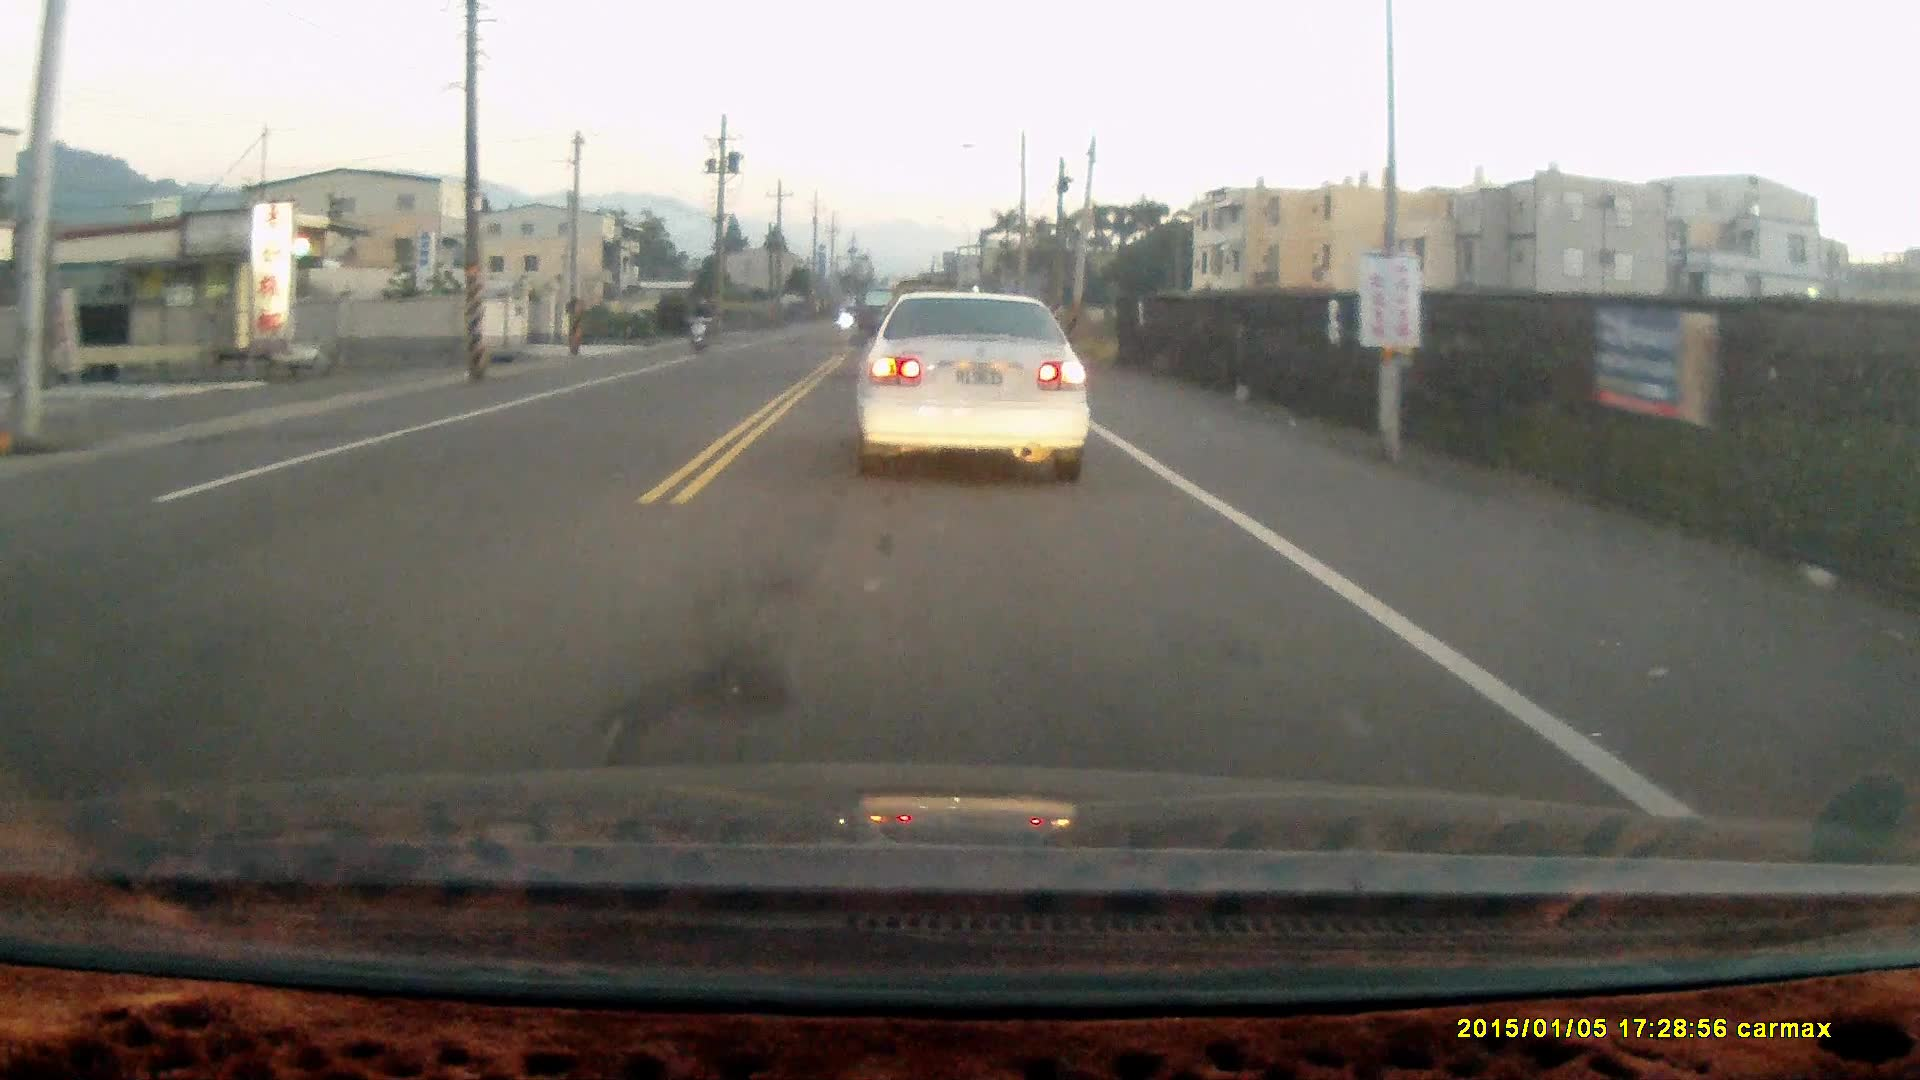rider: (685, 291, 711, 350)
vehicle: (853, 287, 1094, 486)
